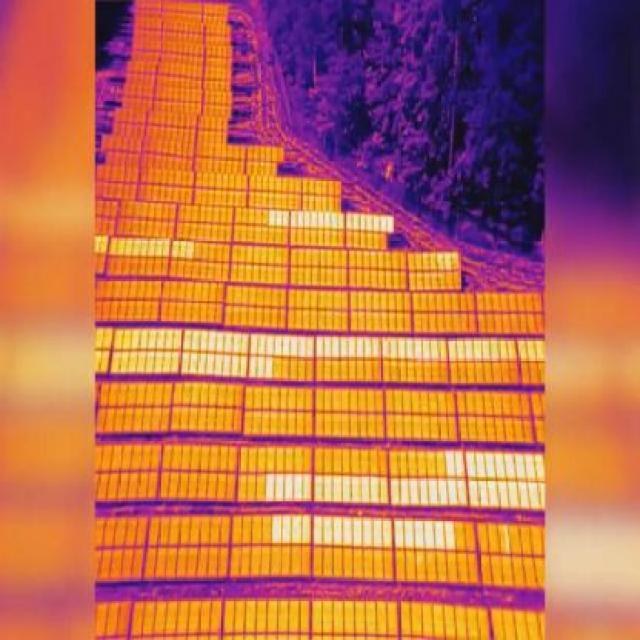diode: (291, 472, 304, 498), (524, 453, 536, 481), (398, 476, 408, 507), (418, 476, 428, 507), (446, 477, 456, 508), (484, 453, 496, 478), (488, 482, 499, 509), (467, 479, 478, 506), (514, 454, 526, 478), (504, 454, 516, 478), (494, 454, 506, 478), (404, 520, 414, 548), (274, 472, 284, 500), (428, 479, 438, 507), (108, 352, 121, 373), (323, 516, 332, 546), (333, 516, 342, 546), (342, 519, 352, 546), (372, 519, 382, 546), (424, 521, 434, 548), (284, 472, 294, 499), (379, 474, 388, 504), (498, 482, 508, 509), (466, 452, 477, 476), (188, 352, 200, 374), (363, 517, 372, 546), (444, 522, 454, 548), (414, 522, 424, 548), (314, 515, 323, 543), (353, 519, 362, 547), (369, 475, 378, 503), (391, 476, 400, 504), (121, 329, 134, 348), (152, 352, 165, 371), (383, 519, 392, 546), (314, 474, 323, 501), (324, 474, 333, 501), (409, 479, 418, 506), (528, 335, 537, 362), (272, 514, 280, 544), (302, 514, 310, 544), (528, 485, 538, 509), (438, 335, 448, 359), (342, 476, 351, 502), (395, 520, 403, 549), (439, 478, 447, 507), (456, 478, 464, 507), (519, 482, 527, 511), (476, 453, 486, 476), (508, 337, 518, 360), (333, 476, 342, 501), (361, 476, 370, 501), (490, 335, 499, 360), (292, 515, 300, 543), (266, 472, 274, 500), (537, 453, 545, 481), (372, 335, 382, 357), (282, 514, 290, 541), (436, 521, 444, 548), (303, 474, 312, 498), (352, 477, 361, 501), (509, 484, 518, 508), (490, 482, 499, 506), (119, 352, 130, 371), (479, 481, 487, 507), (364, 335, 373, 357), (112, 328, 121, 350), (456, 451, 464, 475), (446, 451, 454, 475), (338, 335, 348, 354), (314, 336, 324, 355), (144, 352, 154, 371), (173, 327, 182, 348), (103, 328, 112, 349), (256, 358, 266, 376), (128, 352, 138, 370), (250, 333, 258, 355), (190, 328, 198, 350), (212, 356, 223, 372), (338, 212, 347, 231), (214, 332, 223, 351), (238, 359, 247, 378), (197, 355, 206, 374), (180, 352, 189, 371), (99, 353, 108, 372), (136, 354, 146, 371), (138, 239, 148, 256), (456, 338, 464, 359), (430, 337, 438, 358), (222, 354, 230, 375), (162, 351, 170, 372), (448, 340, 457, 358), (258, 335, 267, 353), (207, 335, 216, 353), (198, 330, 207, 348), (131, 237, 140, 255), (298, 335, 305, 357), (184, 328, 191, 350), (355, 336, 363, 355), (155, 329, 163, 348), (250, 358, 258, 377), (170, 353, 178, 372), (146, 240, 156, 255), (331, 335, 338, 356), (386, 215, 394, 233), (345, 212, 353, 230), (329, 212, 338, 228), (500, 338, 506, 362), (423, 338, 431, 356), (282, 337, 290, 355), (273, 338, 282, 354), (229, 358, 237, 376), (206, 355, 214, 373), (164, 330, 173, 345), (466, 338, 472, 360), (348, 336, 354, 358), (241, 332, 247, 354), (266, 356, 272, 378), (94, 350, 100, 372), (390, 338, 398, 354), (233, 336, 241, 352), (437, 253, 445, 269), (536, 338, 542, 359), (483, 337, 489, 358), (382, 338, 389, 356), (324, 337, 330, 358), (266, 334, 272, 355), (140, 330, 148, 345), (292, 335, 298, 354), (224, 333, 230, 352), (97, 329, 103, 348), (504, 526, 508, 554), (269, 209, 277, 223), (302, 212, 309, 228), (115, 239, 123, 253), (380, 214, 386, 232), (373, 214, 379, 232), (520, 338, 526, 356), (474, 338, 480, 356), (306, 338, 312, 356), (398, 340, 404, 358), (100, 239, 108, 252), (124, 239, 130, 256), (324, 213, 330, 229), (341, 339, 347, 355), (185, 245, 193, 257), (163, 241, 169, 257), (110, 238, 116, 254), (416, 339, 421, 358), (364, 217, 370, 232), (360, 212, 365, 230), (354, 214, 360, 229), (406, 340, 412, 355), (156, 240, 162, 255), (541, 482, 544, 510), (274, 212, 280, 226), (171, 243, 178, 255), (446, 253, 451, 269), (282, 211, 288, 224), (180, 241, 185, 256), (311, 213, 317, 225), (292, 213, 298, 225), (332, 340, 338, 352), (319, 211, 323, 227), (149, 333, 156, 342), (298, 214, 302, 228), (96, 238, 99, 252)
hotspot: (452, 251, 457, 260)
